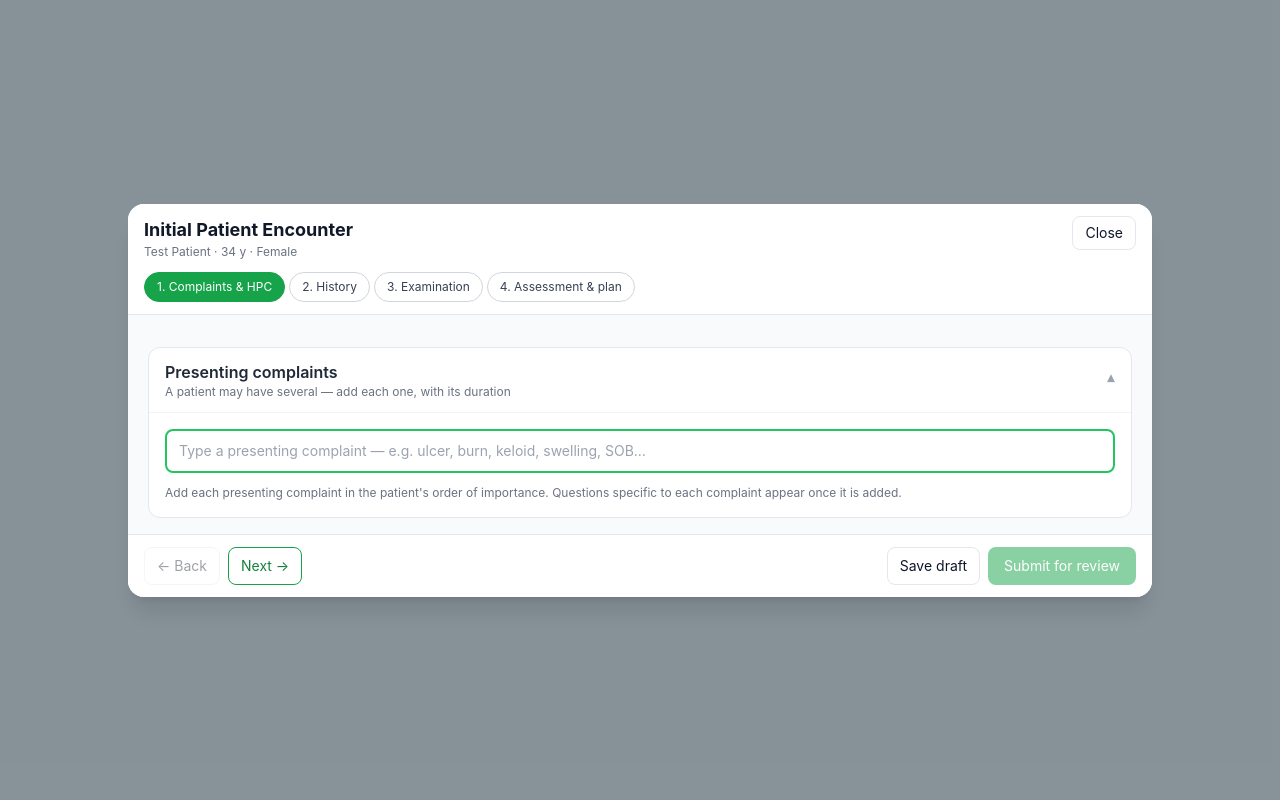
it: InitialEncounterForm › adds a complaint by typing and walks to the assessment
This screenshot has width=1280, height=800.
Replace the text in the field with placeholder "Type a presenting complaint" with "bed sore" at (640, 450), box [165,428,1115,472]
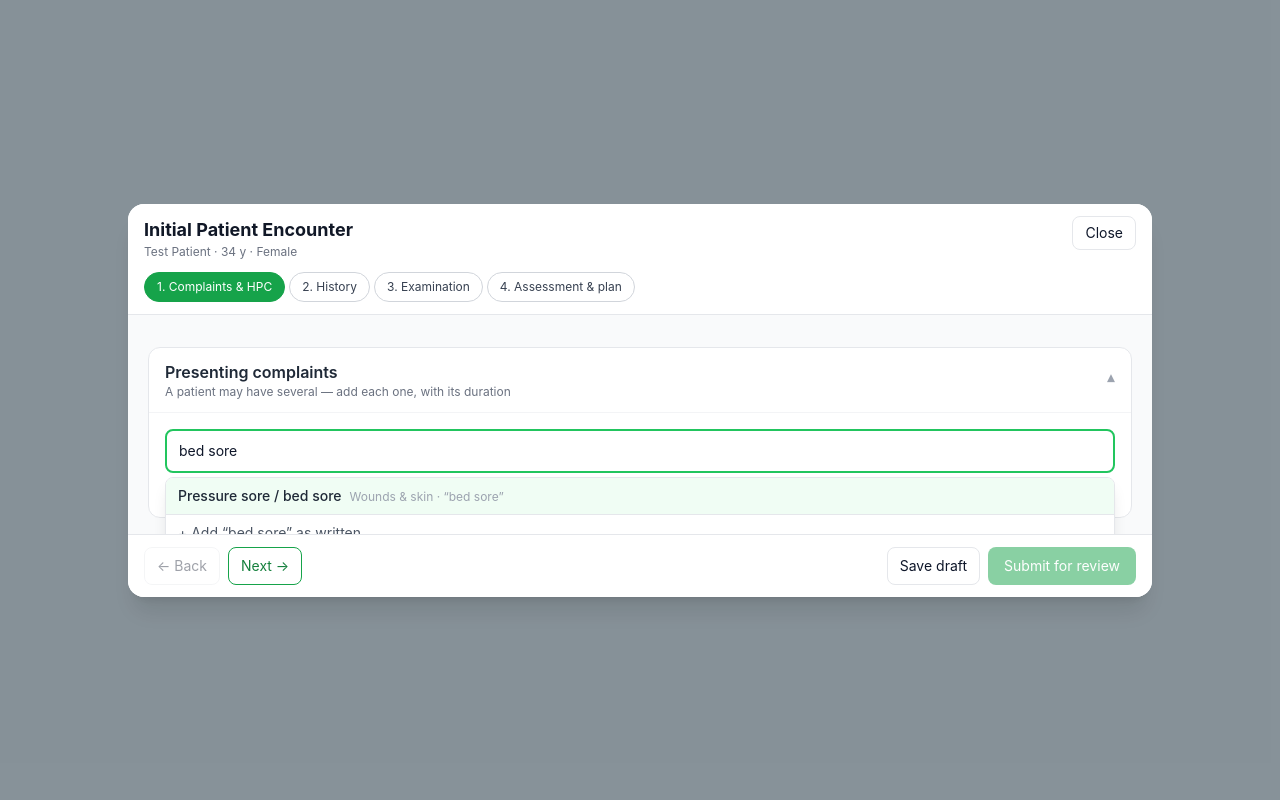
Click the text "Pressure sore / bed sore" at (260, 495), box [178,486,342,504]
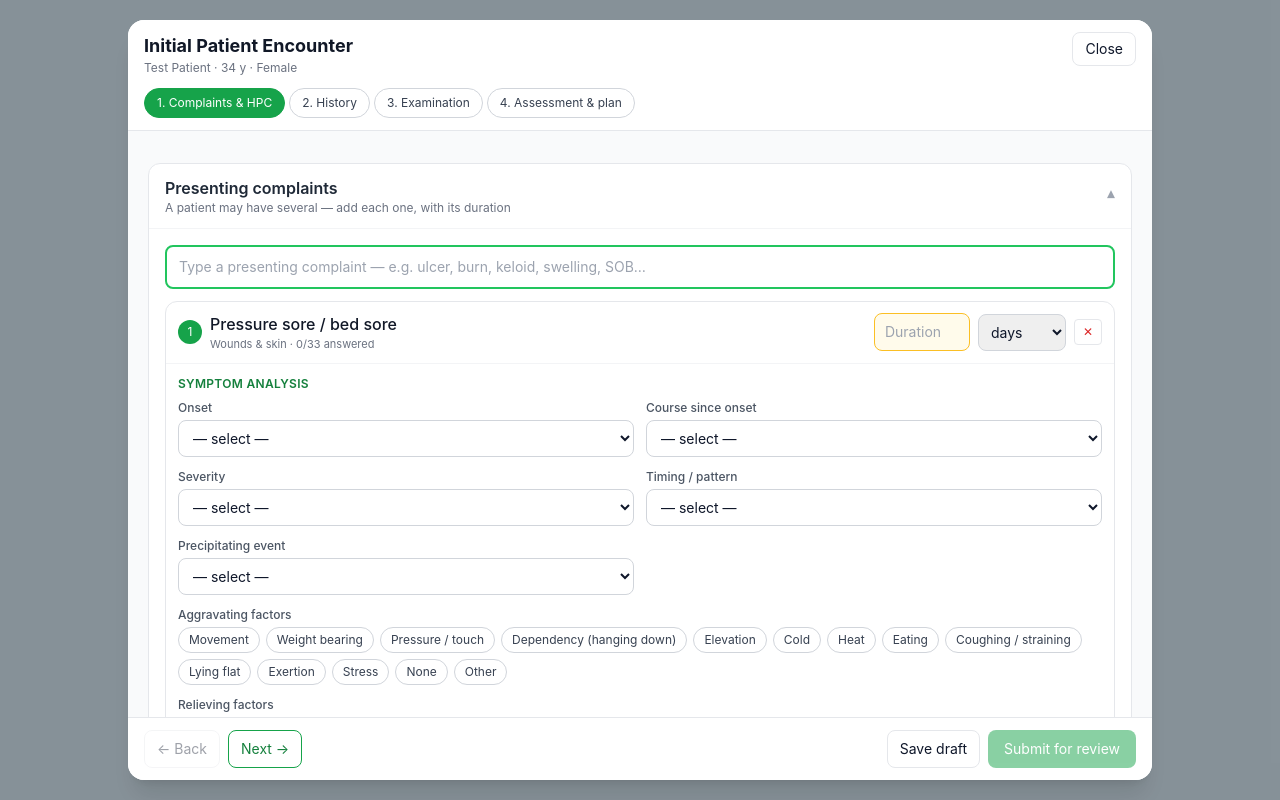
Expected: the heading "Symptom analysis" is shown, [178,376,309,390]
Click the button "2. History" at (330, 103), box [289,88,370,118]
(page scrolled)
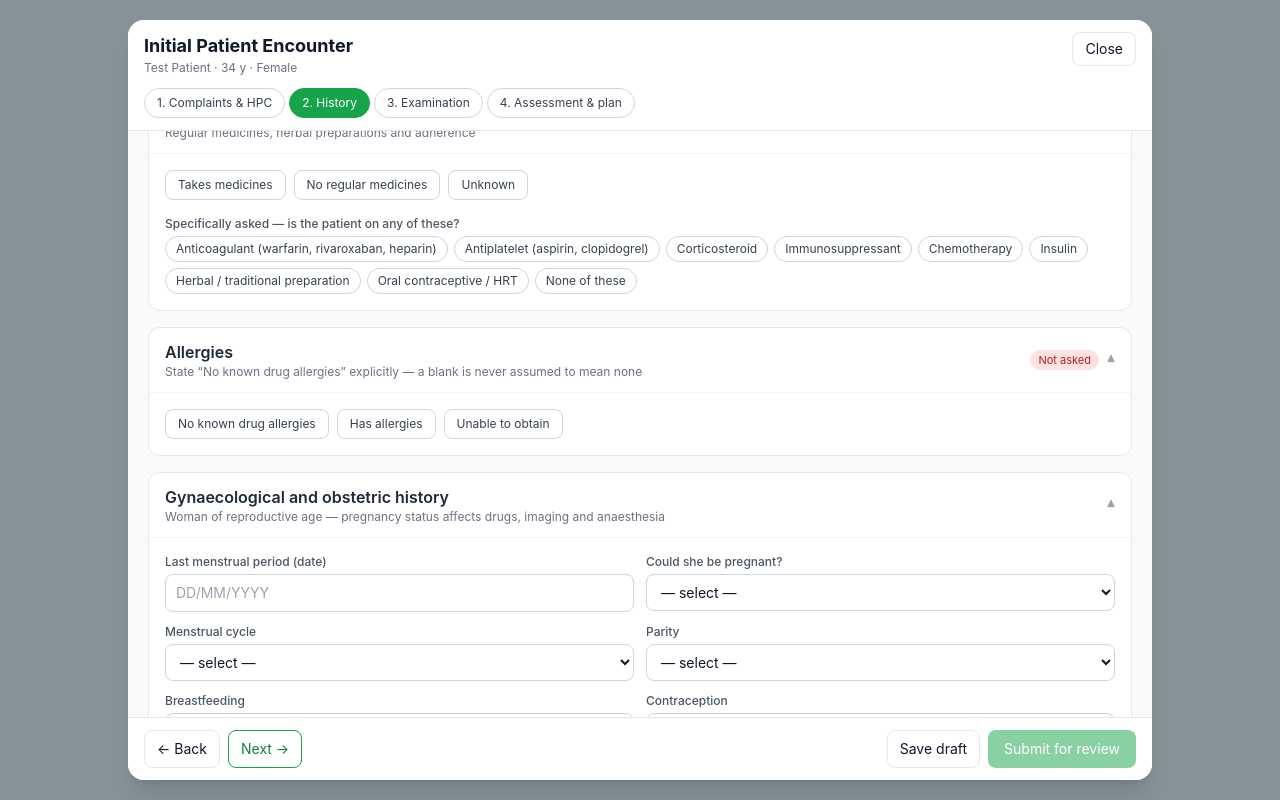
Expected: the text "Gynaecological and obstetric history" is shown, [165,487,449,507]
Click the button "No known drug allergies" at (247, 424), box [165,409,329,439]
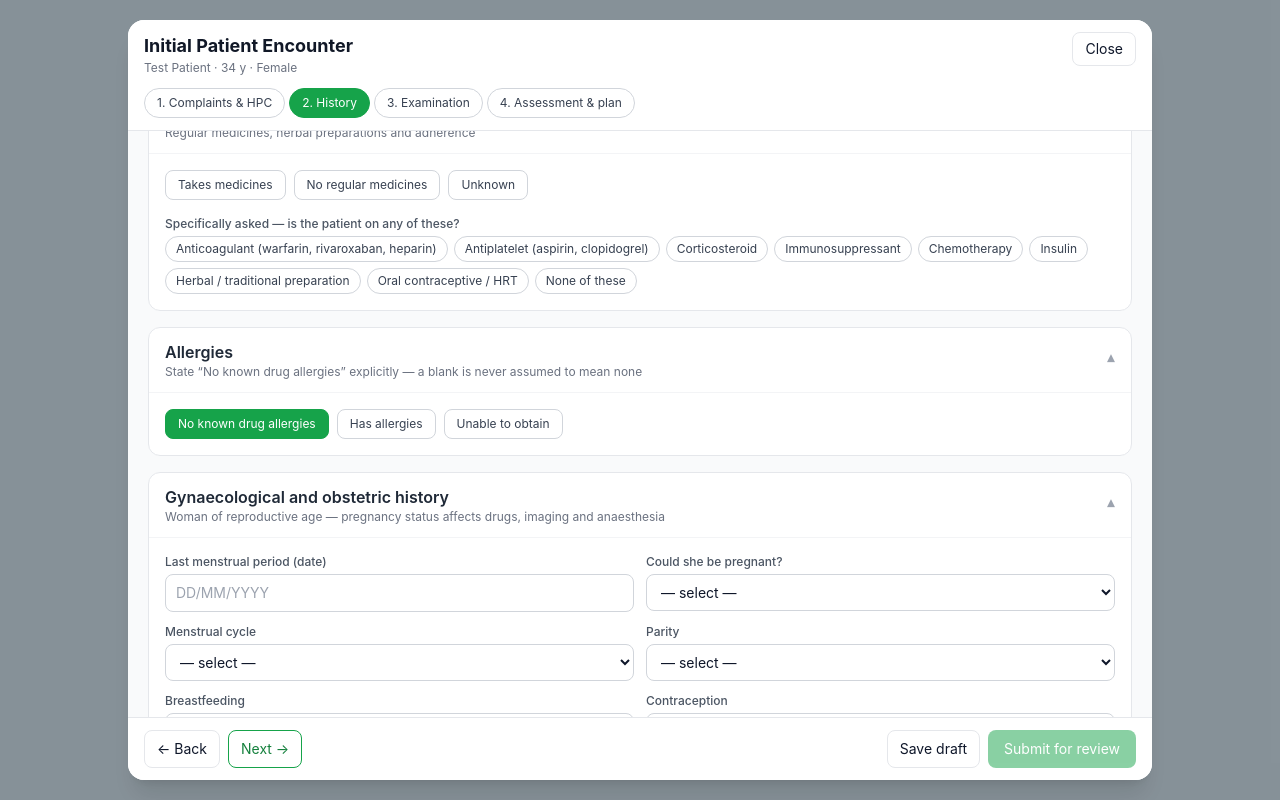
Click the button "3. Examination" at (428, 103), box [374,88,483,118]
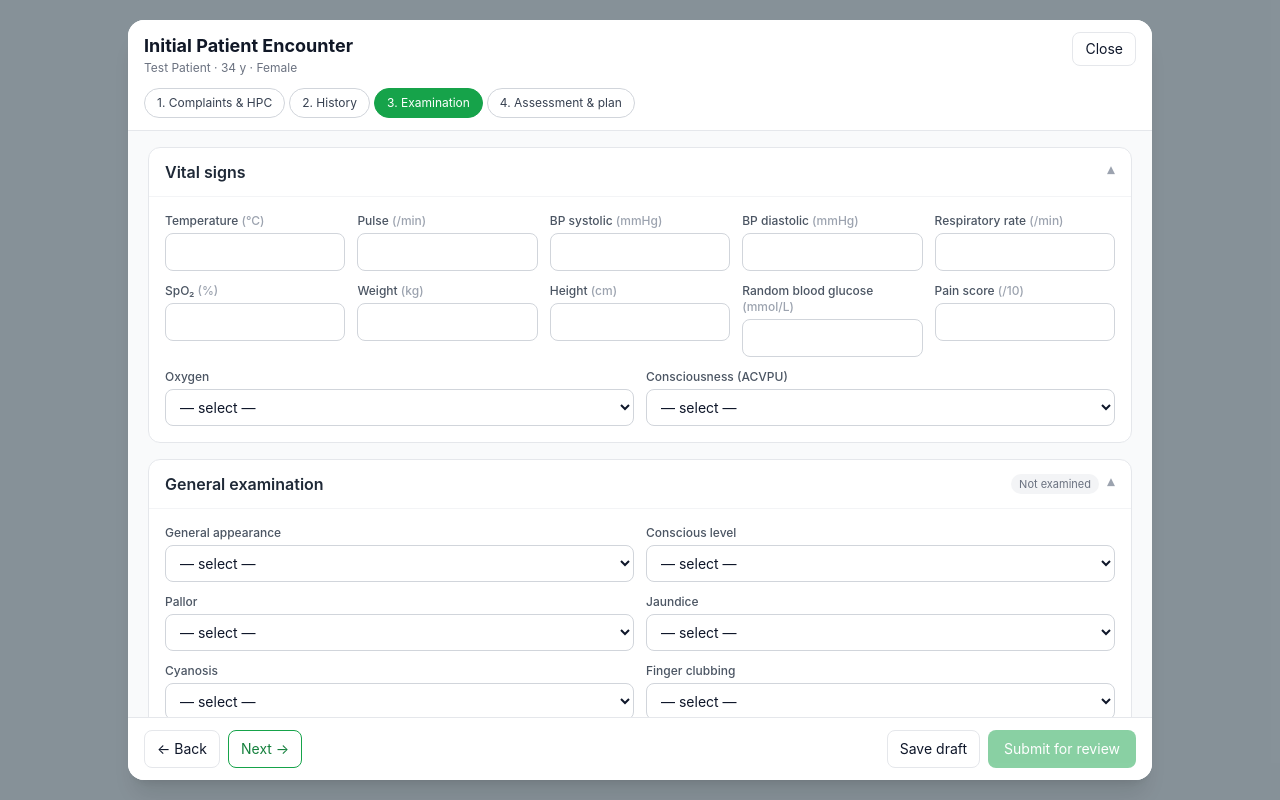
Click the button "4. Assessment & plan" at (561, 103), box [487,88,635,118]
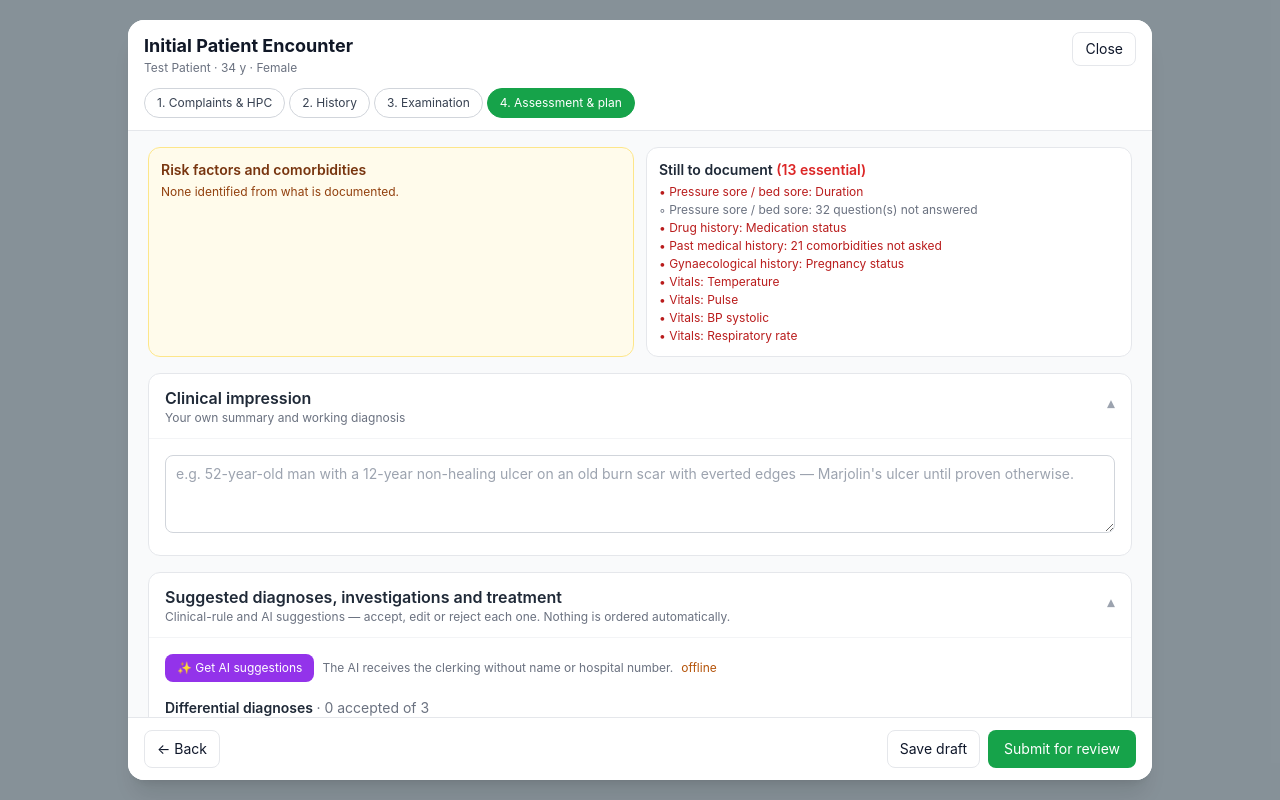
Expected: the button "Submit for review" is shown, [988,730,1136,768]
Expected: the heading "Differential diagnoses · 0 accepted of 3" is shown, [165,699,429,716]
